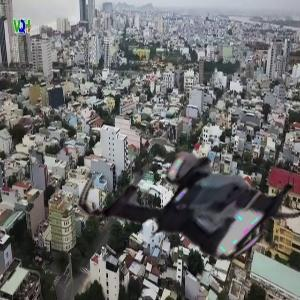drone: (95, 105, 290, 300)
